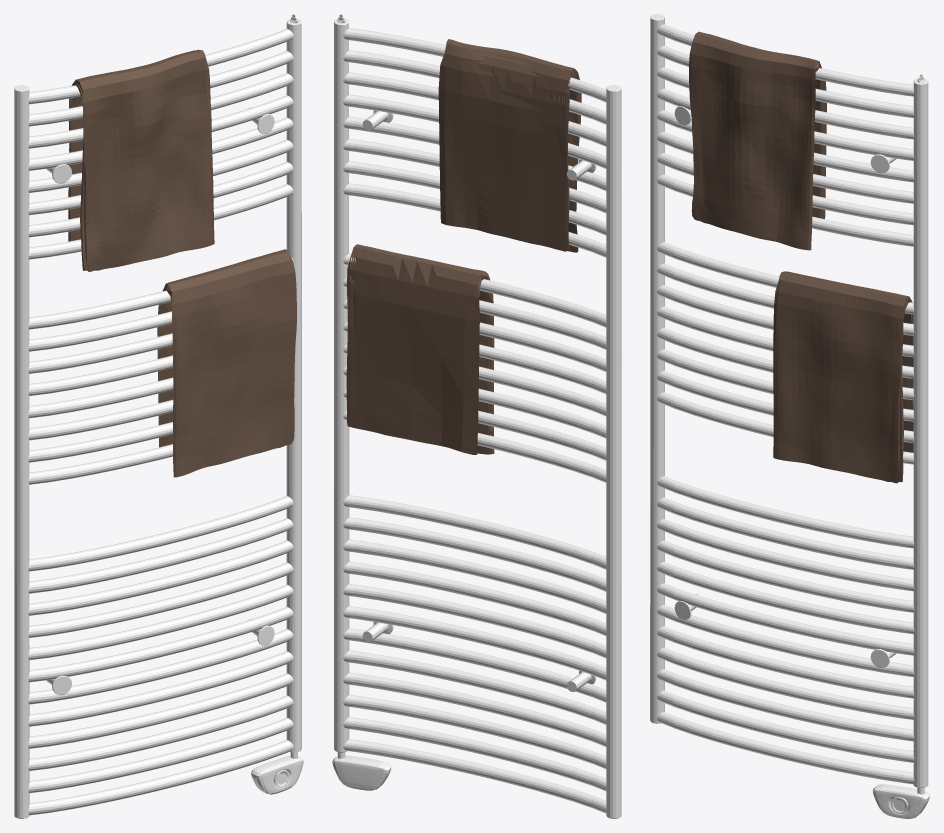
The model's file is radiatorAndTowels.obj.
3 renders of one model, left to right at view 1: azimuth 30°, elevation 25°; view 2: azimuth 150°, elevation 25°; view 3: azimuth 330°, elevation 25°, orthographic. The views are drawn at different scales.
Parts seen in each view (by area): view 1: heated.tower_Cylinder.002, towel_Plane.002, towel.001_Plane.004; view 2: heated.tower_Cylinder.002, towel.001_Plane.004, towel_Plane.002; view 3: heated.tower_Cylinder.002, towel.001_Plane.004, towel_Plane.002.
Part boxes in pixels (x1,y1,x2,y2): heated.tower_Cylinder.002: [14, 14, 303, 818]; towel_Plane.002: [68, 49, 214, 271]; towel.001_Plane.004: [157, 249, 296, 477]; heated.tower_Cylinder.002: [332, 14, 621, 818]; towel.001_Plane.004: [346, 244, 494, 454]; towel_Plane.002: [438, 39, 581, 252]; heated.tower_Cylinder.002: [650, 14, 929, 818]; towel.001_Plane.004: [773, 271, 913, 483]; towel_Plane.002: [689, 31, 826, 250].
Size of the model in its own units: 60 by 154 by 9.97.
